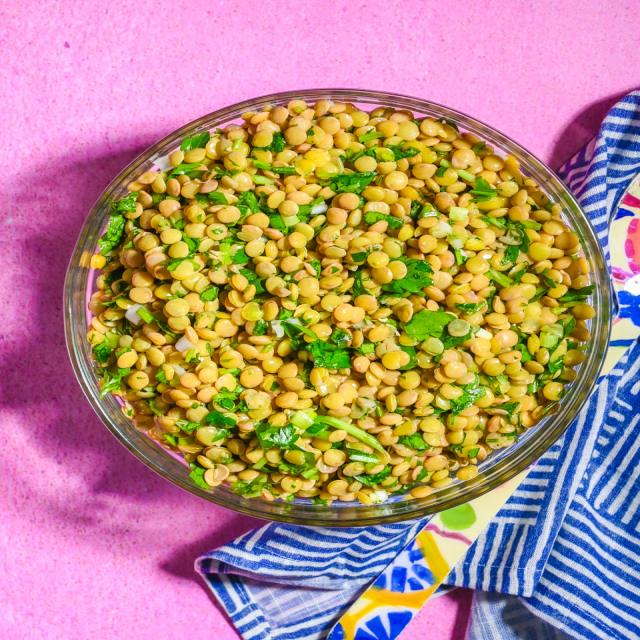lentejas: (83, 103, 588, 514)
